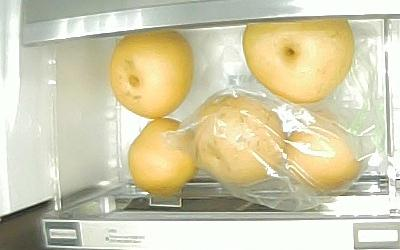pear: (242, 19, 353, 104), (109, 30, 192, 118), (128, 117, 193, 194)
pear_vinyl: (193, 94, 284, 186), (287, 108, 360, 193)
